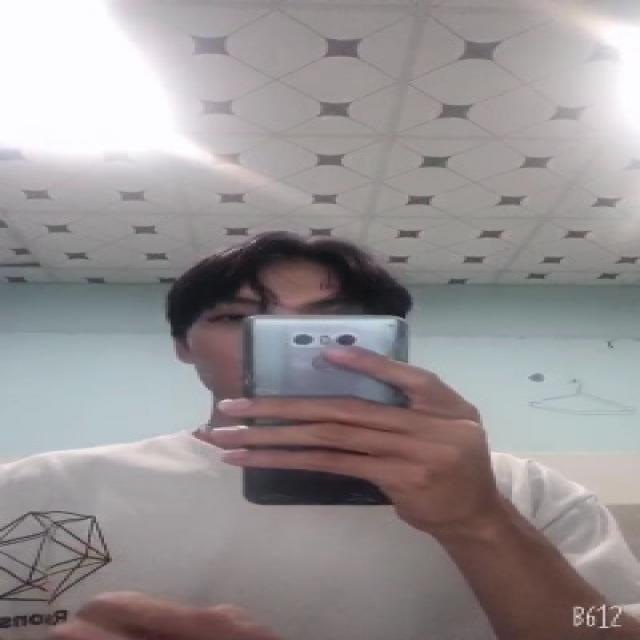Phone: (238, 313, 412, 511)
